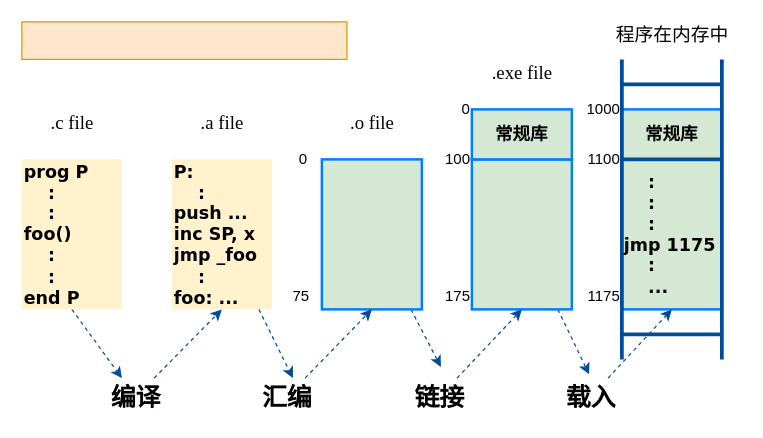
Image size: 763x438. Some labels were removed from this diagram. The shapes that lost their labels are listed below. From the top down, each one's centre as x and y in pixels, then its label:
At [184,40]: "程序重定位与逻辑地址生成".
At [371,234]: ": push ... inc SP, 4 jmp 75 : ...".
At [521,234]: ": : : jmp 175 : ...".
